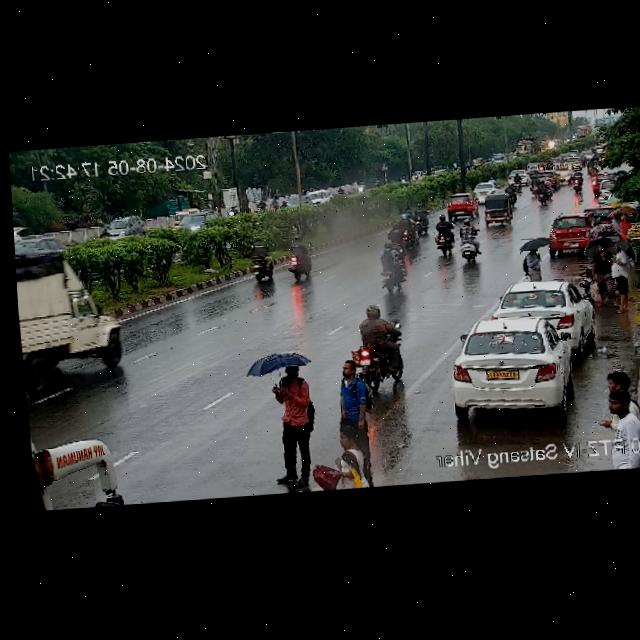car: (439, 312, 589, 420), (494, 278, 592, 341), (546, 212, 597, 250), (473, 195, 516, 228), (590, 171, 617, 204), (440, 194, 477, 216), (465, 181, 503, 197), (489, 151, 506, 165), (566, 156, 583, 169), (471, 157, 484, 170), (526, 162, 539, 173)
motorcycle: (346, 306, 407, 391), (376, 236, 408, 294), (245, 240, 283, 281), (280, 239, 316, 281), (382, 212, 421, 248), (451, 225, 482, 263), (525, 173, 562, 204), (428, 216, 457, 255), (564, 167, 586, 194), (253, 197, 282, 215), (510, 173, 524, 193), (584, 159, 595, 174), (538, 158, 547, 172)
person: (308, 425, 377, 491), (268, 359, 317, 445), (596, 390, 640, 471), (333, 360, 372, 439), (518, 238, 556, 278), (608, 243, 632, 306), (587, 248, 613, 305), (601, 368, 638, 405), (609, 212, 629, 241)
truck: (13, 215, 128, 373), (513, 134, 540, 158), (576, 123, 591, 138)
